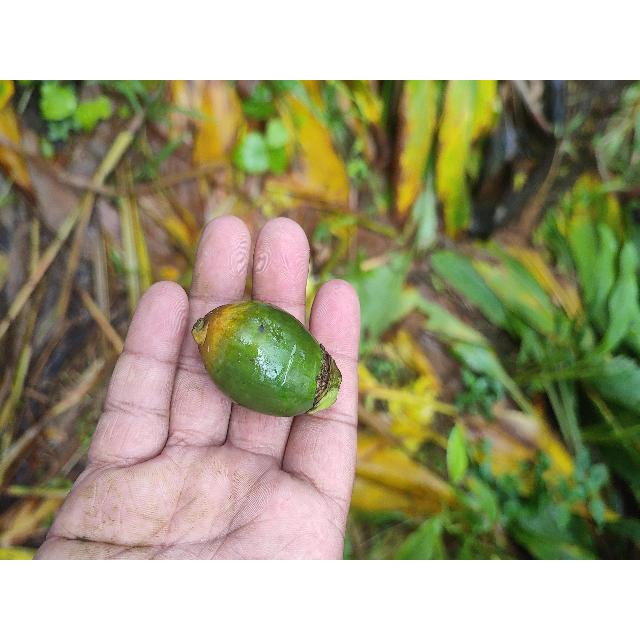good: (189, 301, 342, 419)
